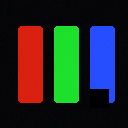1 square: (90, 89, 108, 107)
